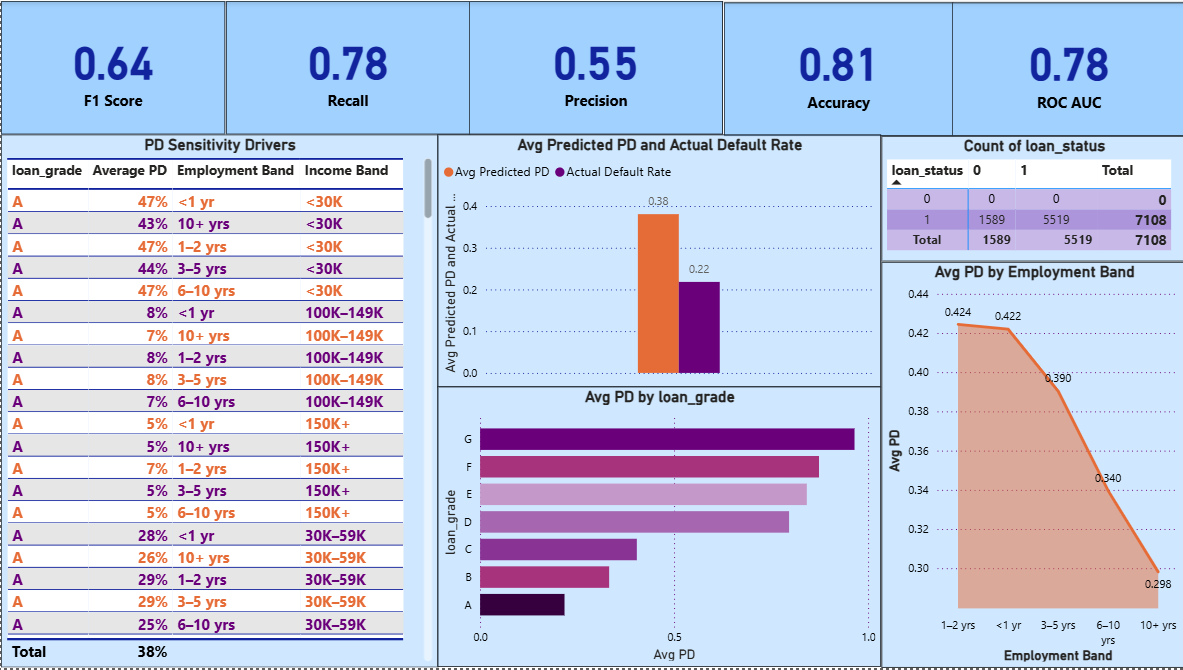

Layout of this report page (visuals, bound fields, positions):
{"tool":"powerbi","page":{"name":"Regulatory & Model Governance View","canvas":[1280,720],"ordinal":2},"visuals":[{"type":"tableEx","title":"PD Sensitivity Drivers","fields":{"Values":["credit_scored.loan_grade","credit_metrics.Average PD","credit_scored.Employment Band","credit_scored.Income Band"]},"box":[0,144.2,471.8,575],"z":0},{"type":"card","fields":{"Values":["credit_scored.F1 Score"]},"box":[0,0,242.1,144.2],"z":1000},{"type":"card","fields":{"Values":["credit_scored.Recall"]},"box":[242.1,0,263.5,144.2],"z":2000},{"type":"card","fields":{"Values":["credit_scored.Precision"]},"box":[505.6,0,274.2,144.2],"z":3000},{"type":"card","fields":{"Values":["credit_scored.Accuracy"]},"box":[779.7,1.8,247.5,144.2],"z":4000},{"type":"clusteredColumnChart","fields":{"Y":["credit_scored.Avg Predicted PD","credit_scored.Actual Default Rate"]},"box":[471.8,144.2,478.9,272.4],"z":5000},{"type":"card","fields":{"Values":["credit_metrics.ROC AUC"]},"box":[1027.2,1.8,252.8,144.2],"z":6000},{"type":"pivotTable","title":"Count of loan_status","fields":{"Rows":["credit_scored.loan_status"],"Columns":["credit_scored.Predicted_Default"],"Values":["Sum(credit_scored.loan_status)"]},"box":[950.7,146,329.3,135.3],"z":7000},{"type":"clusteredBarChart","fields":{"Category":["credit_scored.loan_grade"],"Y":["credit_metrics.Avg PD"]},"box":[471.8,416.6,478.9,302.6],"z":7001},{"type":"lineChart","fields":{"Category":["credit_scored.Employment Band"],"Y":["credit_metrics.Avg PD"]},"box":[950.7,281.3,329.3,437.9],"z":7002}]}

Visuals, with their boxes in screenshot pixels (x1, y1, x2, y2), scaled from the page's 1280x720 canvas onto the 1183x670 screenshot:
"PD Sensitivity Drivers" tableEx: 0,134,436,669
card - credit_scored.F1 Score: 0,0,224,134
card - credit_scored.Recall: 224,0,467,134
card - credit_scored.Precision: 467,0,721,134
card - credit_scored.Accuracy: 721,2,949,136
clusteredColumnChart - credit_scored.Avg Predicted PD x credit_scored.Actual Default Rate: 436,134,879,388
card - credit_metrics.ROC AUC: 949,2,1182,136
"Count of loan_status" pivotTable: 879,136,1182,262
clusteredBarChart - credit_scored.loan_grade x credit_metrics.Avg PD: 436,388,879,669
lineChart - credit_scored.Employment Band x credit_metrics.Avg PD: 879,262,1182,669
